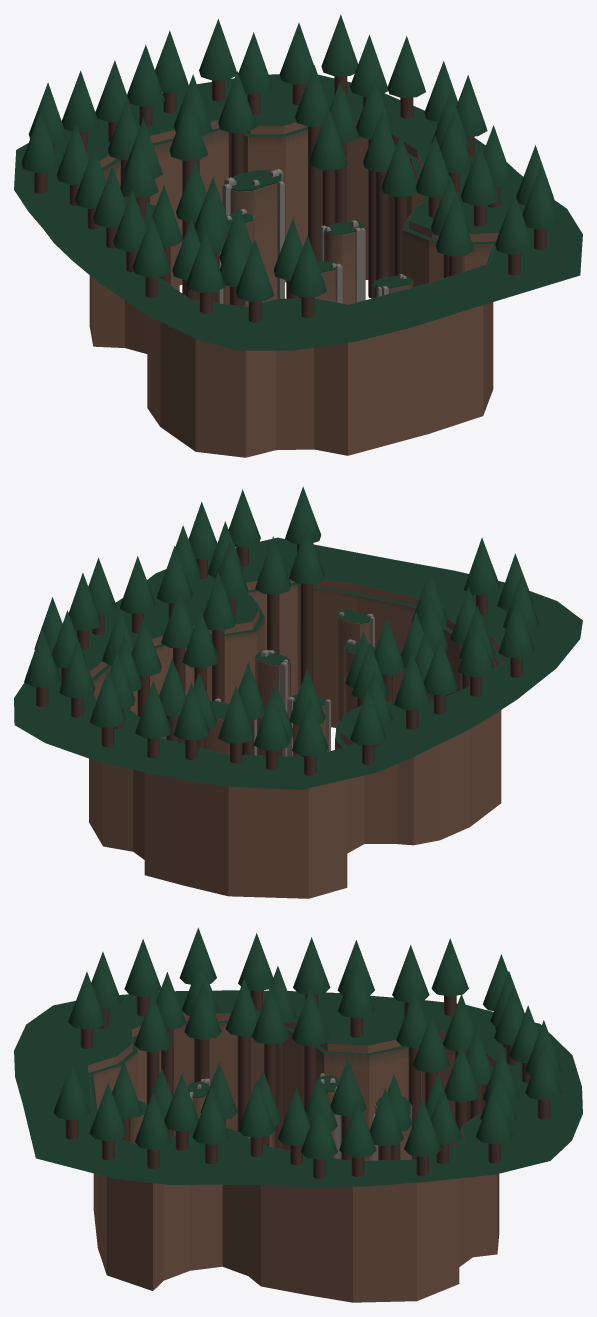
The model's file is StageSelect_model_Ver03.fbx.
3 views of the same model, one above another, from view 1: azimuth 30°, elevation 25°; view 2: azimuth 150°, elevation 25°; view 3: azimuth 270°, elevation 25° (orthographic). The views are drawn at different scales.
Parts seen in each view (by area): view 1: StageSelect; view 2: StageSelect; view 3: StageSelect.
Part boxes in pixels (x1,y1,x2,y2): StageSelect: [14, 14, 582, 457]; StageSelect: [14, 486, 582, 898]; StageSelect: [14, 927, 582, 1302].
Bounding box in the file's own units: 509 × 264 × 621.
1 material, 1 textured.
